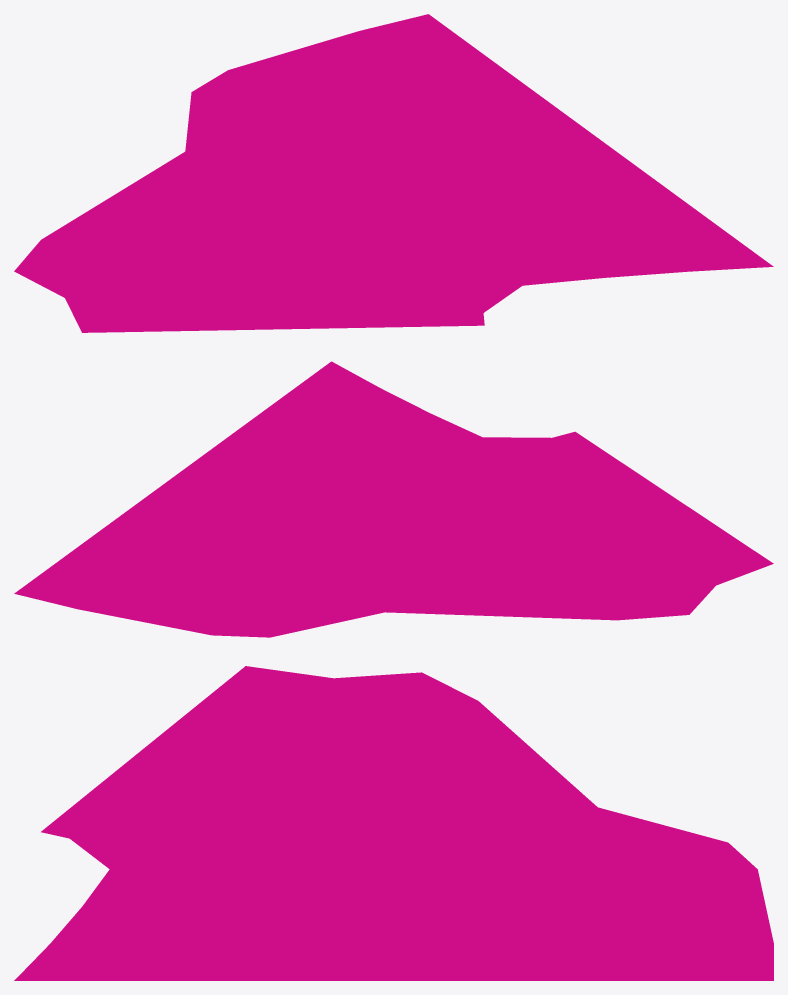
File: Parchment_P_07.fbx
The picture shows the model from 3 angles, top to bottom: view 1: azimuth 30°, elevation 25°; view 2: azimuth 150°, elevation 25°; view 3: azimuth 270°, elevation 25°; orthographic projection. The views are drawn at different scales.
Parts seen in each view (by area): view 1: Parchment_P_07; view 2: Parchment_P_07; view 3: Parchment_P_07.
Part boxes in pixels (box(x1,y1,x2,y2)): Parchment_P_07: box(14, 14, 773, 332); Parchment_P_07: box(14, 361, 773, 637); Parchment_P_07: box(14, 666, 773, 980).
Bounding box in the file's own units: 26.16 × 5.92e-15 × 26.67.
